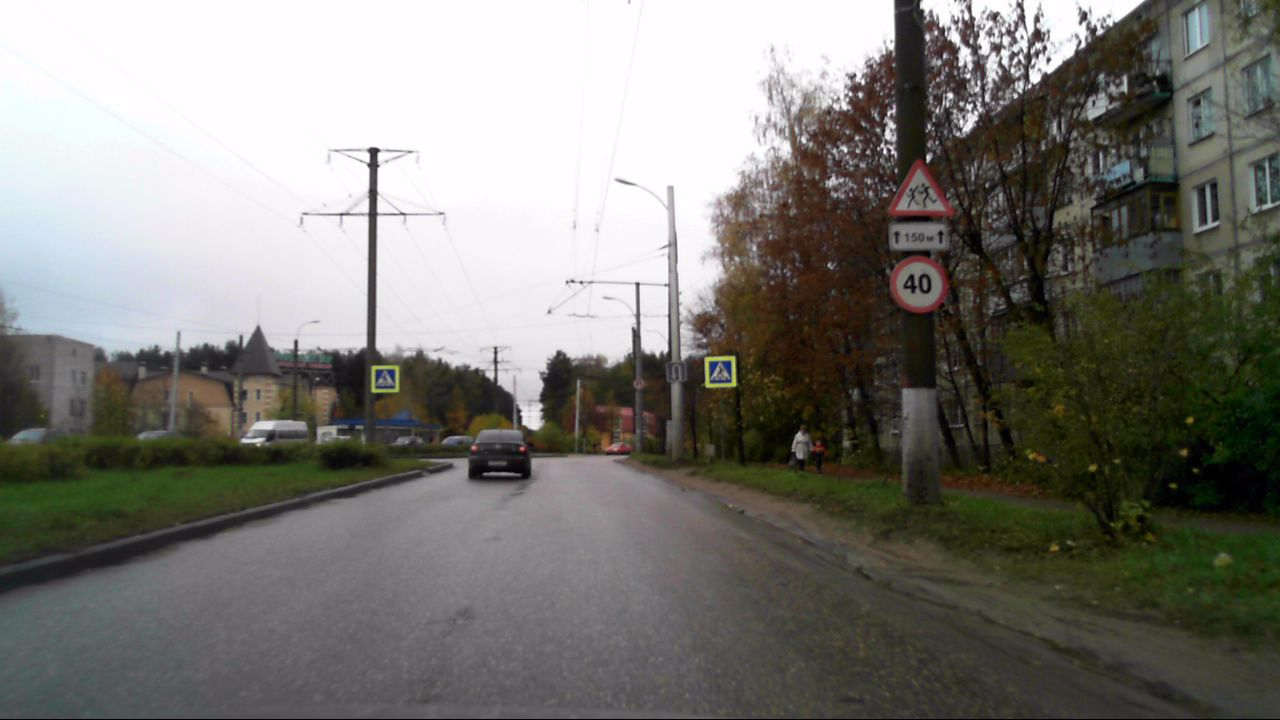Pedestrian Crossing: (709, 361, 732, 383), (375, 369, 396, 389)
U-turn: (667, 363, 686, 381)
speed_warning_40: (890, 256, 947, 312)
